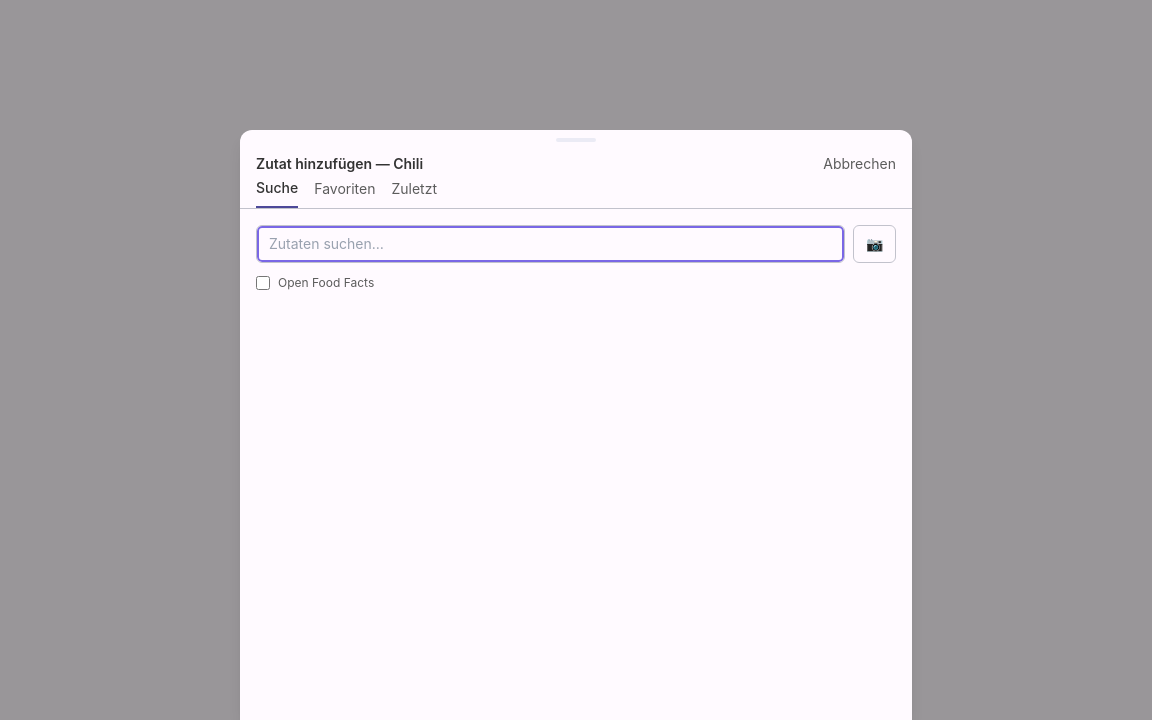
Test: LogIngredientDrawer — batch-targeted mode › keeps untracked search results un-selectable
In the search field with placeholder "Zutaten suchen…": {"x": 550, "y": 244} top-left (256, 225), bottom-right (845, 263), type "salz"
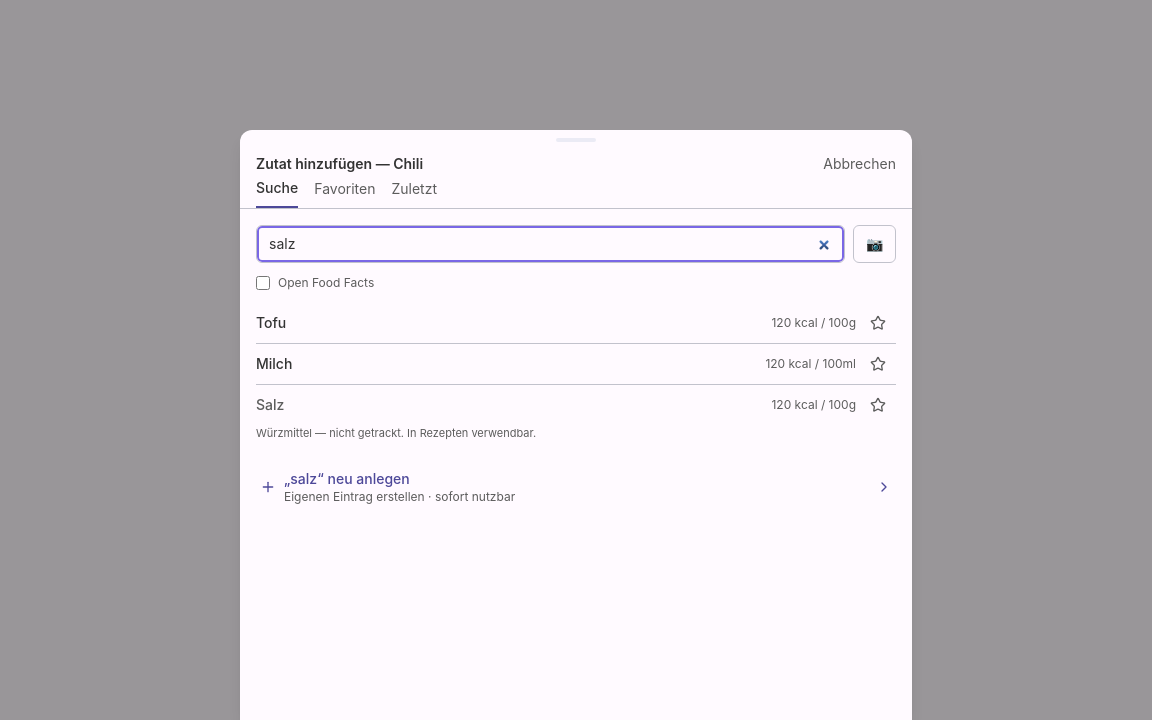
Now the button "Salz 120 kcal / 100g" is disabled, box top-left (256, 385), bottom-right (856, 425)
